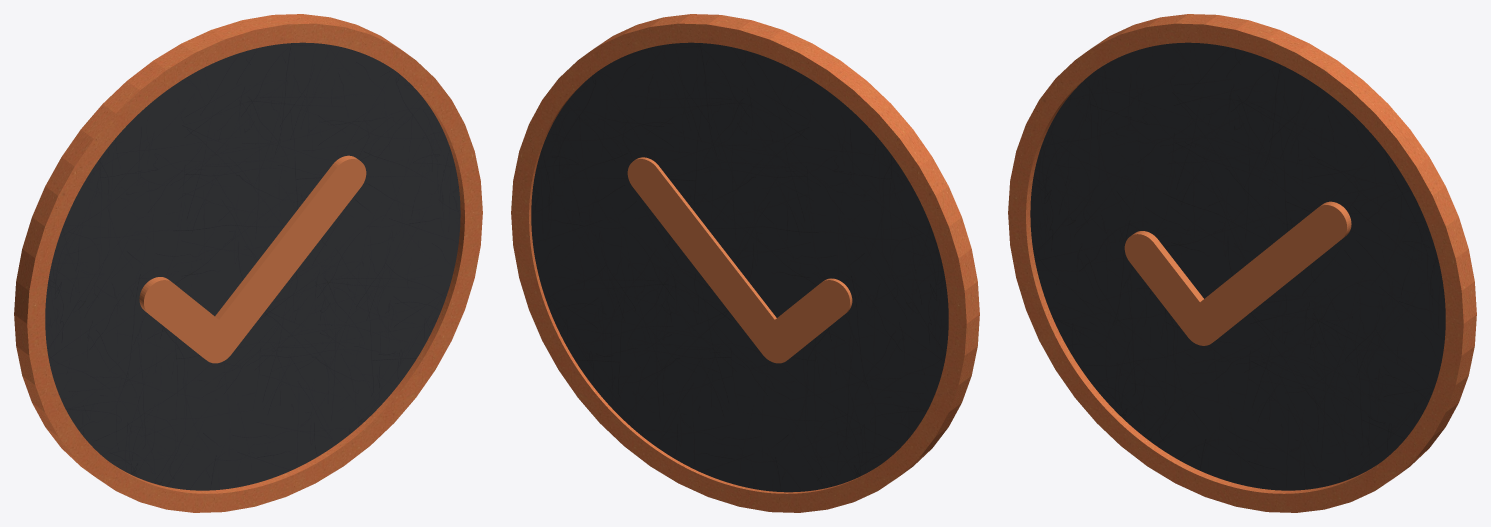
File: agenda.glb
3 renders of one model, left to right at view 1: azimuth 30°, elevation 25°; view 2: azimuth 150°, elevation 25°; view 3: azimuth 330°, elevation 25°, orthographic.
Parts seen in each view (by area): view 1: Curve.001; view 2: Curve.001; view 3: Curve.001.
Boxes of the visible parts, x1,y1,x2,y2 form: Curve.001: [14, 14, 482, 512]; Curve.001: [511, 14, 979, 512]; Curve.001: [1008, 14, 1476, 512].
Size of the model in its own units: 0.4 by 0.3999 by 0.02.
2 materials, 2 textured.
